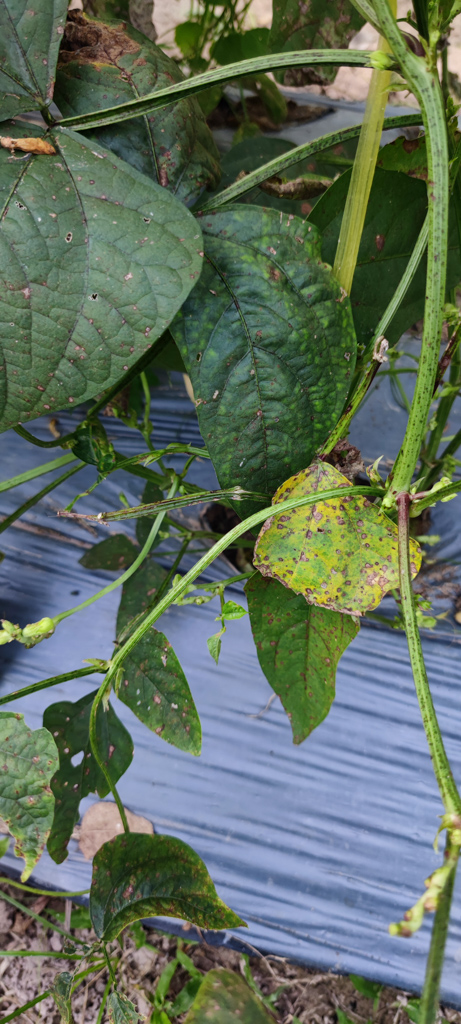Rust: (242, 453, 425, 613), (236, 583, 367, 745), (87, 828, 254, 937), (95, 627, 205, 754), (1, 709, 63, 886)
